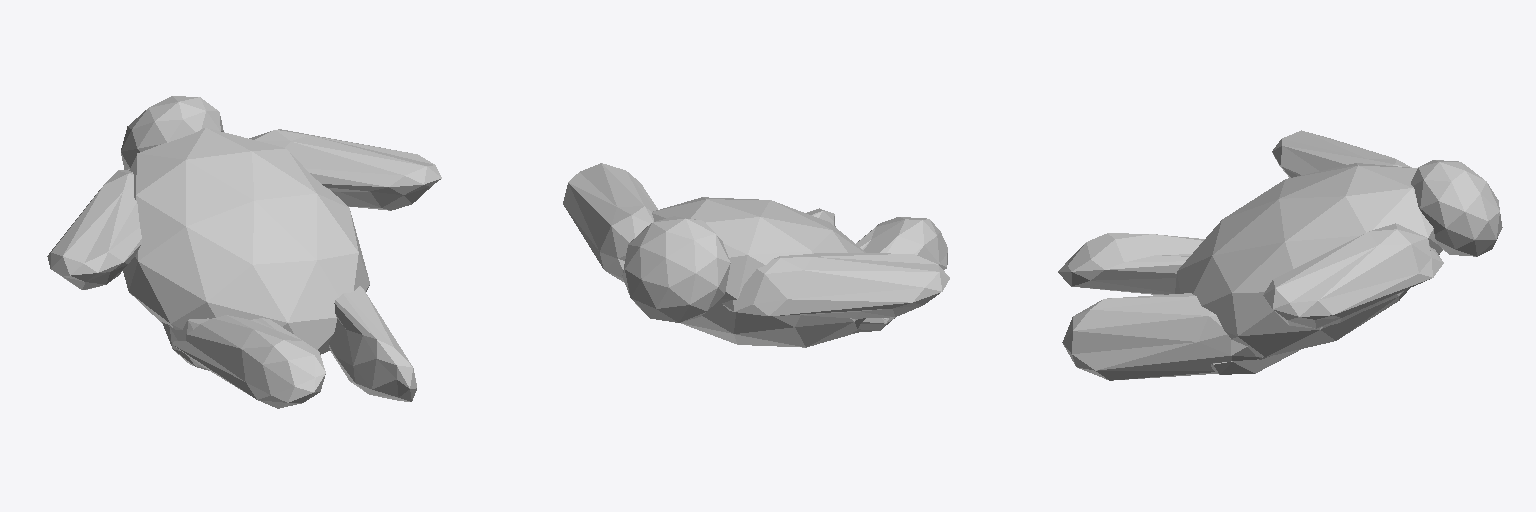
File: snowman.obj
The picture shows the model from 3 angles: view 1: azimuth 30°, elevation 25°; view 2: azimuth 150°, elevation 25°; view 3: azimuth 270°, elevation 25°; orthographic projection.
Parts seen in each view (by area): view 1: Icosphere.001_Icosphere.006, Icosphere.005_Icosphere.011, Icosphere.003_Icosphere.005, Icosphere.002_Icosphere.007, Icosphere.004_Icosphere.009, Icosphere; view 2: Icosphere.001_Icosphere.006, Icosphere.002_Icosphere.007, Icosphere, Icosphere.003_Icosphere.005, Icosphere.005_Icosphere.011; view 3: Icosphere.001_Icosphere.006, Icosphere.004_Icosphere.009, Icosphere.003_Icosphere.005, Icosphere.005_Icosphere.011, Icosphere, Icosphere.002_Icosphere.007.
Boxes of the visible parts, <box> form: Icosphere.001_Icosphere.006: <box>123,128,369,354</box>; Icosphere.005_Icosphere.011: <box>162,315,325,408</box>; Icosphere.003_Icosphere.005: <box>249,129,441,210</box>; Icosphere.002_Icosphere.007: <box>47,169,141,289</box>; Icosphere.004_Icosphere.009: <box>329,286,416,401</box>; Icosphere: <box>121,96,223,169</box>; Icosphere.001_Icosphere.006: <box>652,197,865,347</box>; Icosphere.002_Icosphere.007: <box>722,253,949,318</box>; Icosphere: <box>622,216,730,322</box>; Icosphere.003_Icosphere.005: <box>563,163,657,282</box>; Icosphere.005_Icosphere.011: <box>853,217,947,332</box>; Icosphere.001_Icosphere.006: <box>1175,163,1442,356</box>; Icosphere.004_Icosphere.009: <box>1062,293,1300,380</box>; Icosphere.003_Icosphere.005: <box>1263,223,1443,328</box>; Icosphere.005_Icosphere.011: <box>1058,233,1204,294</box>; Icosphere: <box>1411,160,1502,256</box>; Icosphere.002_Icosphere.007: <box>1272,130,1411,177</box>.
Size of the model in its own units: 6.32 by 3.03 by 6.41.